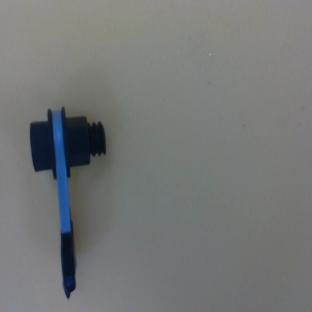part_1_bad: (30, 106, 108, 298)
